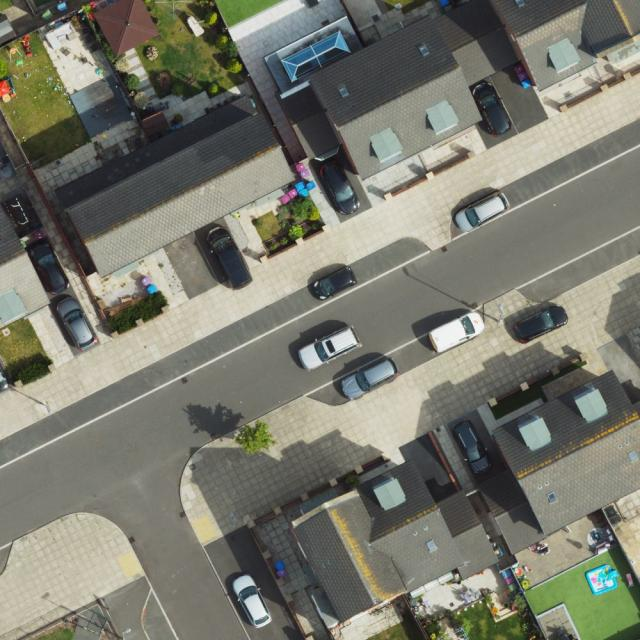roof: (306, 0, 640, 182), (52, 93, 299, 276), (286, 460, 502, 627), (477, 369, 640, 557)
skylight: (425, 536, 441, 557), (415, 40, 433, 58), (335, 82, 352, 99), (625, 447, 639, 464), (545, 491, 558, 505), (512, 0, 527, 7)
